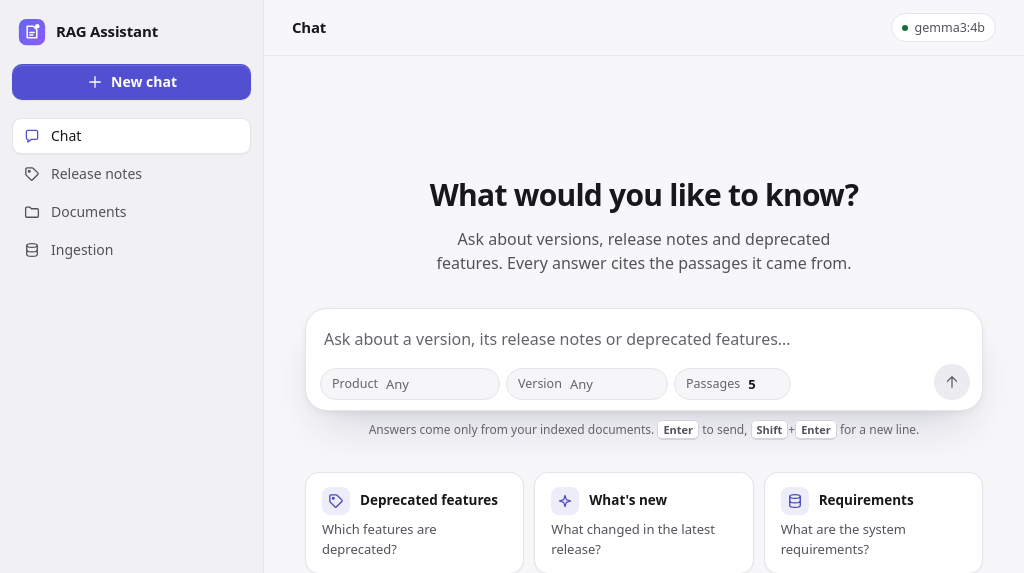
it: App: chat across the shell › keeps the chat history when switching tabs and back
This screenshot has width=1024, height=573.
In the text box named "Question": (645, 340) [320, 323, 970, 356], type "Q?"
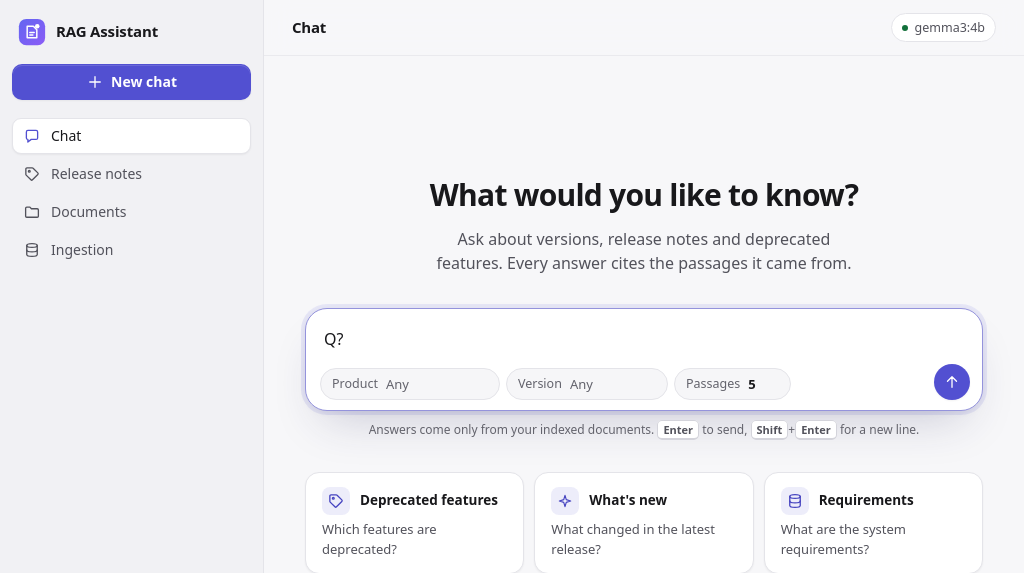
Click the button named "Ask": (952, 382) [934, 364, 970, 400]
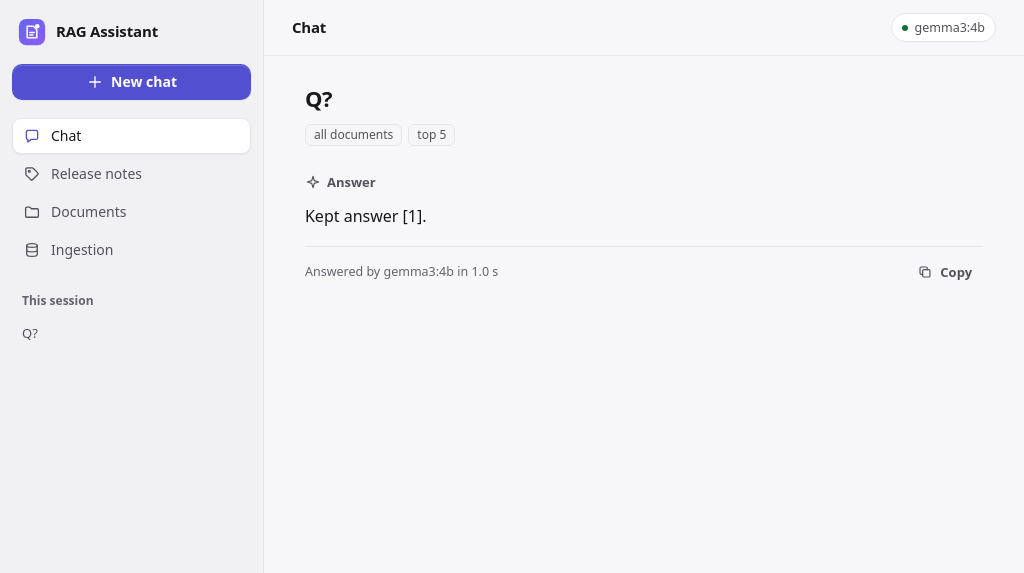
Click the tab "Release notes": (82, 174) [23, 164, 142, 183]
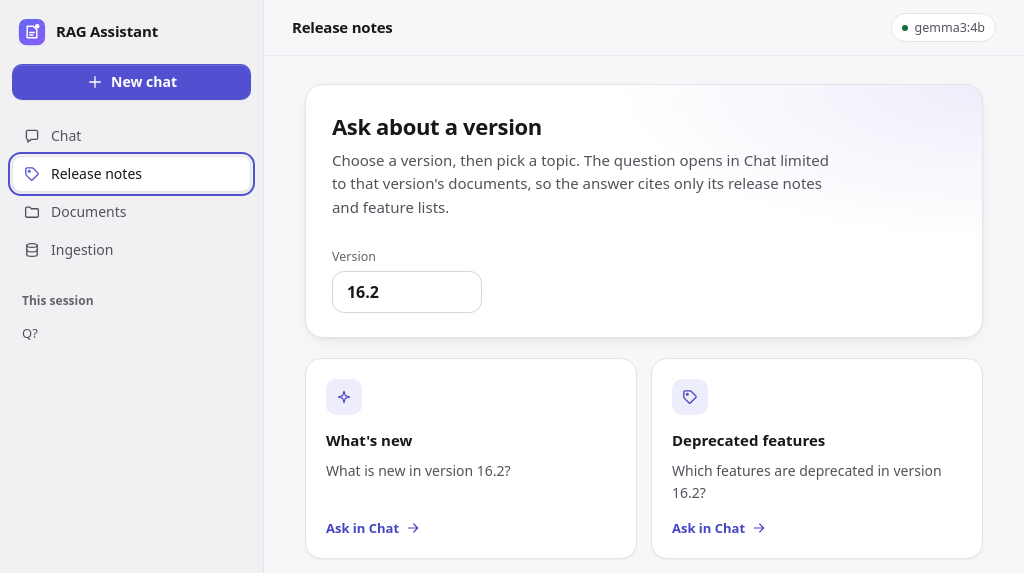
Click the tab "Chat": (52, 136) [23, 126, 81, 145]
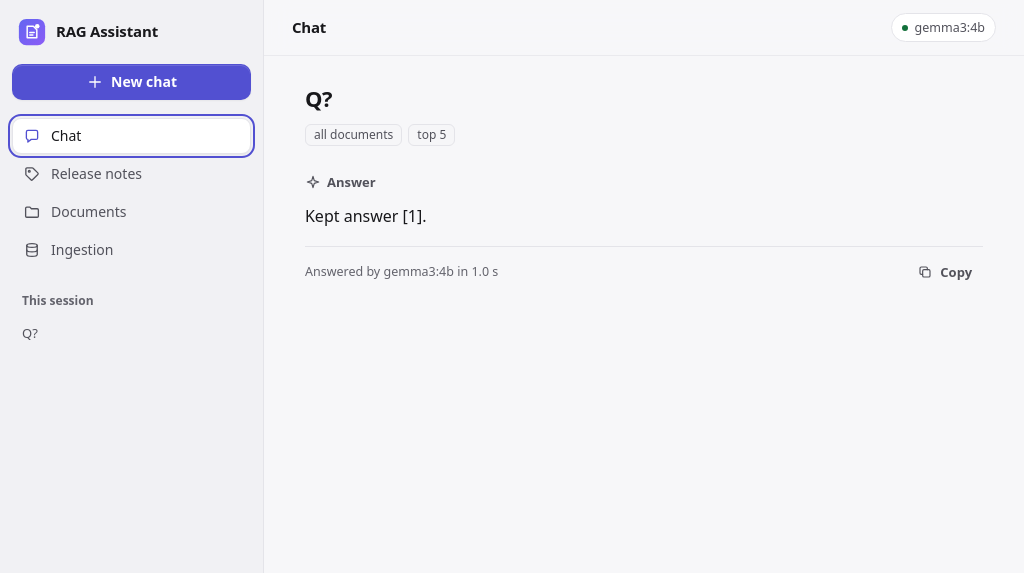
Now the text "Kept answer [1]." is shown, box [305, 205, 427, 227]
